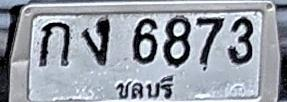3: (228, 16, 253, 64)
6: (132, 17, 157, 64)
7: (196, 17, 223, 68)
8: (164, 16, 190, 66)
A01: (39, 21, 70, 66)
A07: (82, 18, 110, 65)
CBI: (110, 72, 175, 102)
